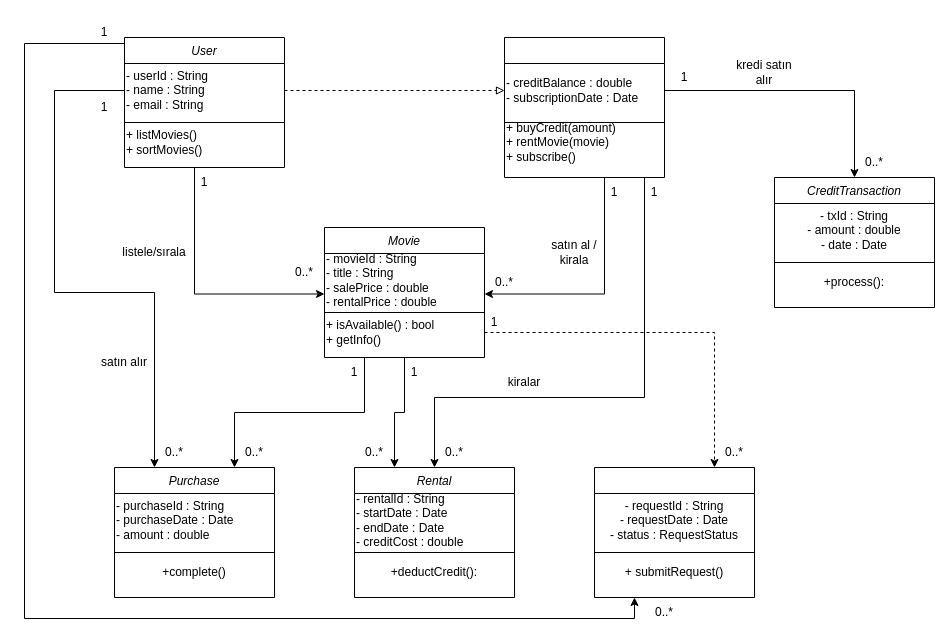
Some shapes in this 952 by 644 pixel diagram are drawn without their labels. The shapes that lost their labels are listed below. From the top down, each one's box as (x1, y1, x2, y2) in pixels, then its label:
(504, 36, 664, 178): Subscriber
(594, 466, 754, 598): Movie Request
